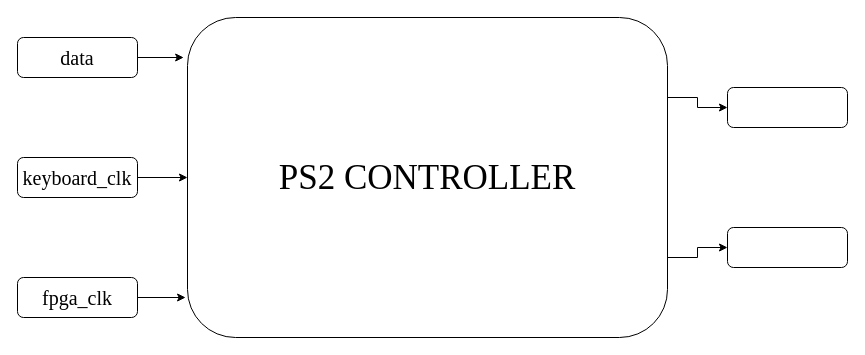
Some shapes in this 865 by 355 pixel diagram are drawn without their labels. Here are the shapes that lost their labels. From the top down, the centre of each, then its label:
pixel 787 107: anode [3:0]
pixel 787 247: cathode [7:0]
